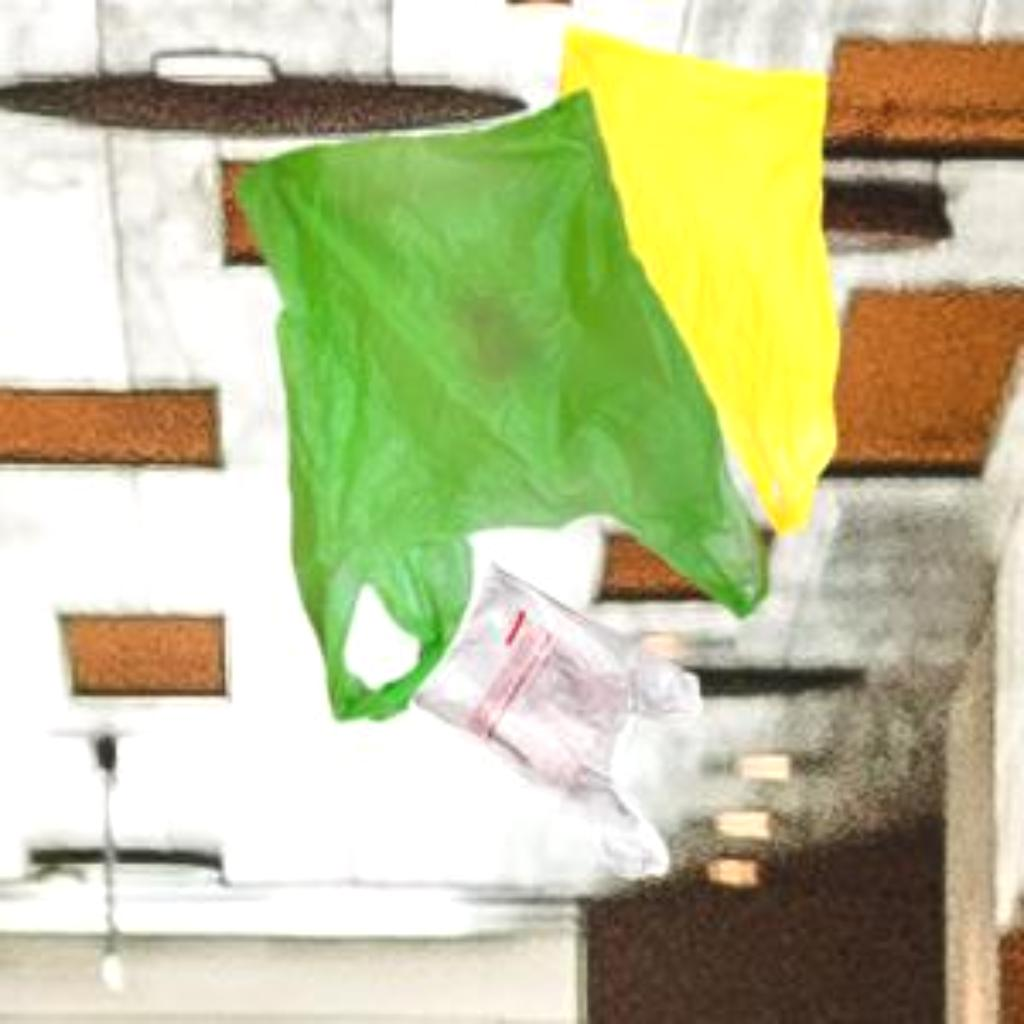garbage: (246, 67, 710, 715), (551, 34, 872, 560)
